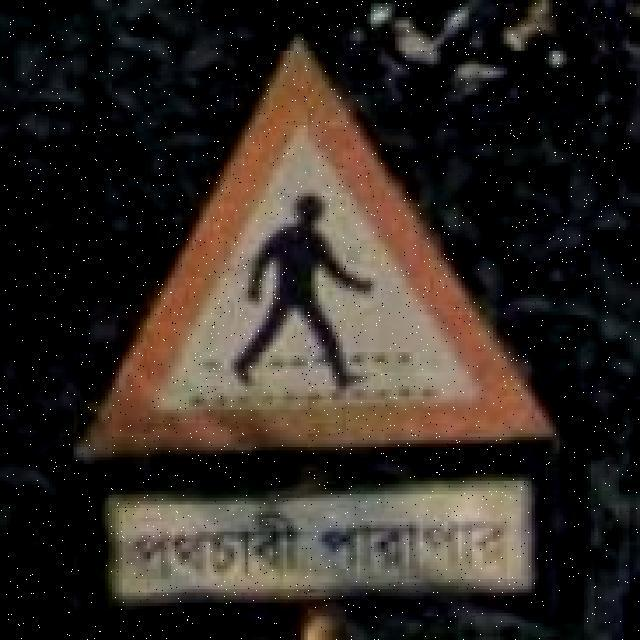Pedestrian-crossing: (82, 34, 570, 627)
